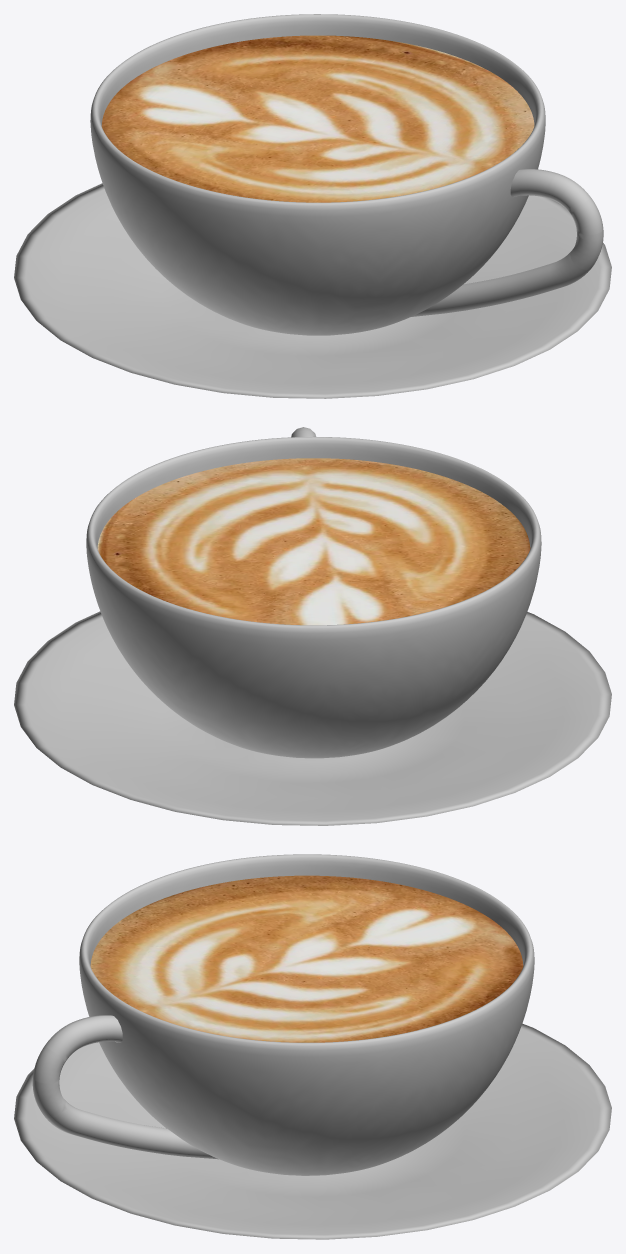
The model's file is coffee.glb.
3 views of the same model, one above another, from view 1: azimuth 30°, elevation 25°; view 2: azimuth 150°, elevation 25°; view 3: azimuth 270°, elevation 25° (orthographic).
Visible parts, largest first — view 1: Sphere001, Object001_Material #26_0, Cylinder001, Line001; view 2: Cylinder001, Sphere001, Object001_Material #26_0; view 3: Sphere001, Object001_Material #26_0, Cylinder001, Line001.
Part boxes in pixels (x1=…): Sphere001: x1=90, y1=14, x2=545, y2=335; Object001_Material #26_0: x1=101, y1=35, x2=534, y2=202; Cylinder001: x1=14, y1=183, x2=611, y2=398; Line001: x1=411, y1=169, x2=603, y2=316; Cylinder001: x1=14, y1=611, x2=611, y2=825; Sphere001: x1=86, y1=436, x2=541, y2=758; Object001_Material #26_0: x1=97, y1=458, x2=530, y2=625; Sphere001: x1=79, y1=854, x2=534, y2=1175; Object001_Material #26_0: x1=90, y1=875, x2=523, y2=1042; Cylinder001: x1=14, y1=1023, x2=611, y2=1239; Line001: x1=32, y1=1015, x2=218, y2=1159.
Size of the model in its own units: 105 by 37.99 by 105.
Materials: 4 (1 with a texture image).
